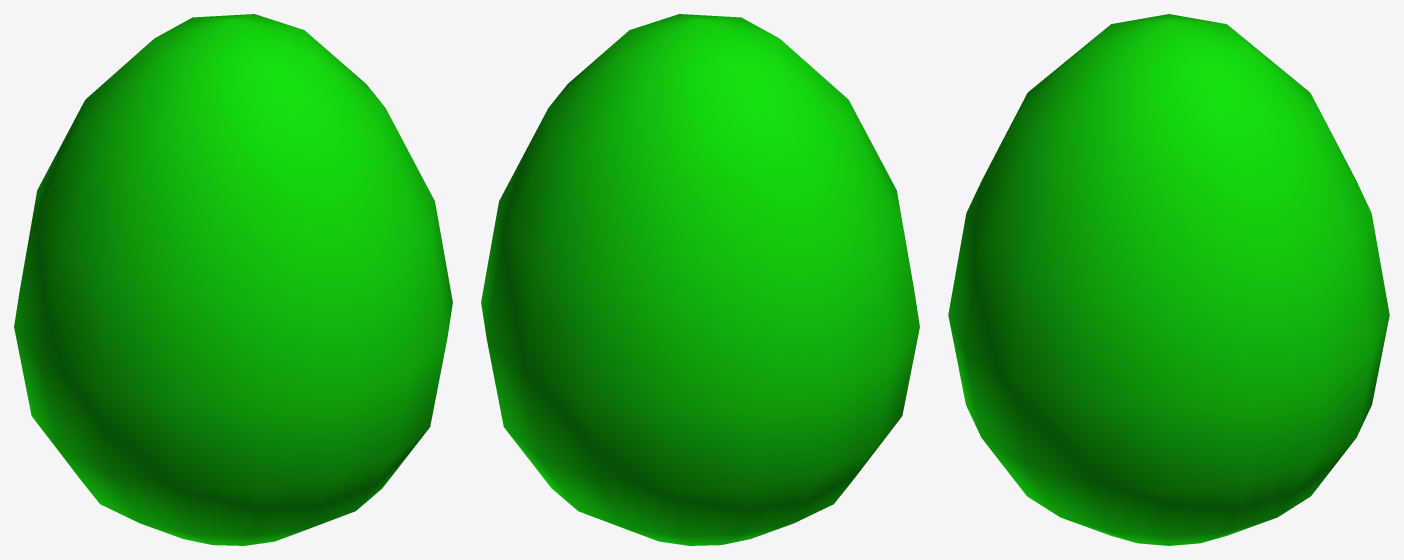
File: shuiqiu.FBX
3 renders of one model, left to right at view 1: azimuth 30°, elevation 25°; view 2: azimuth 150°, elevation 25°; view 3: azimuth 270°, elevation 25°, orthographic.
Parts seen in each view (by area): view 1: 水球; view 2: 水球; view 3: 水球.
Boxes of the visible parts, bbox=[...] form: 水球: bbox=[14, 14, 452, 545]; 水球: bbox=[481, 14, 919, 545]; 水球: bbox=[948, 14, 1389, 545].
Bounding box in the file's own units: 46.35 × 58.18 × 46.35.
